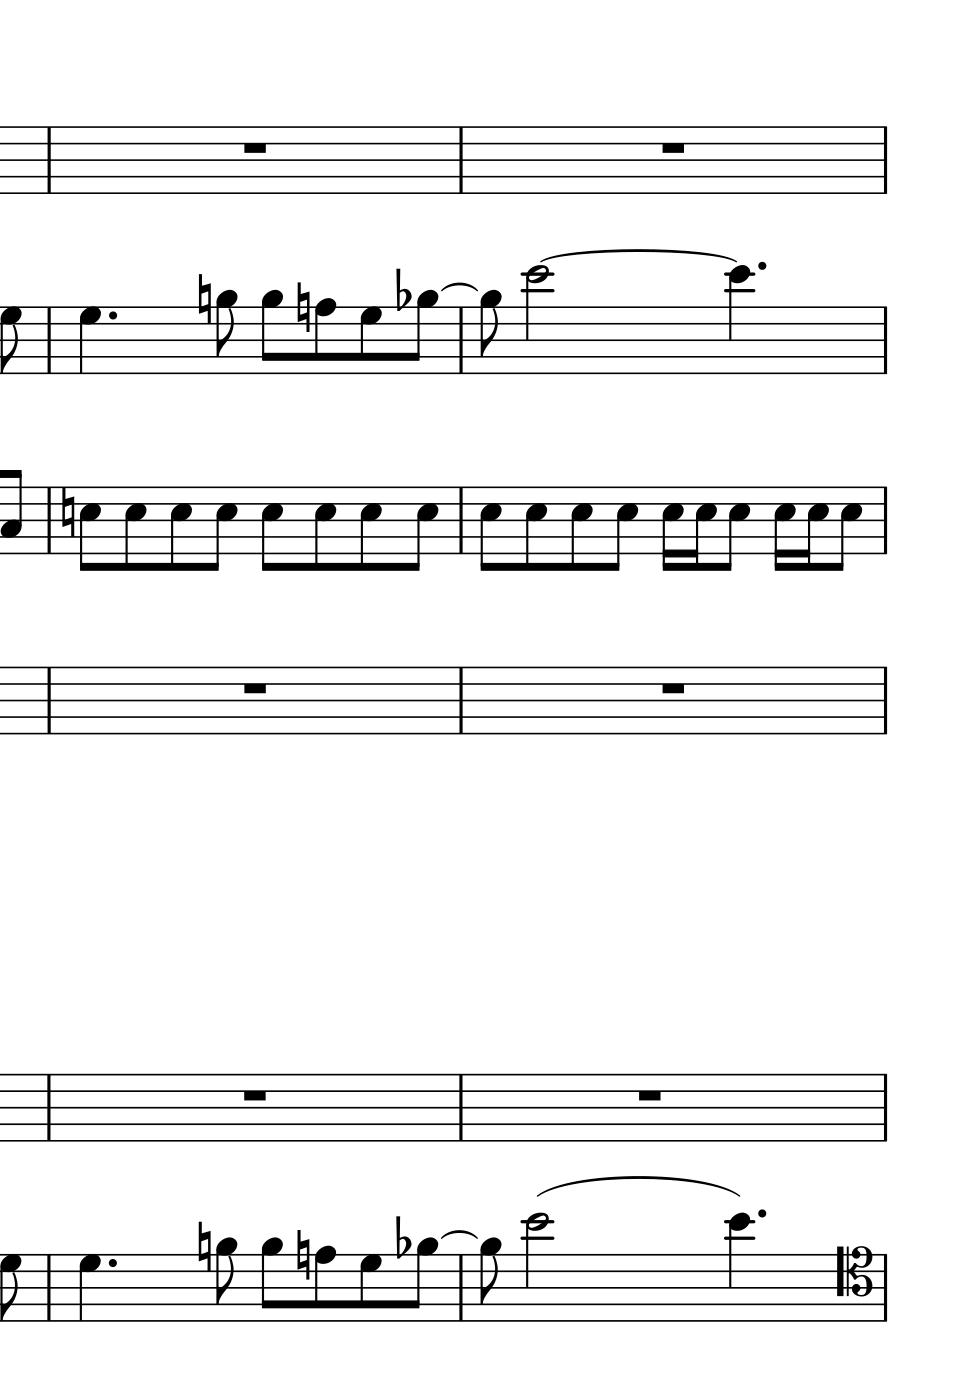16_5: (801, 484, 828, 572), (689, 485, 716, 572), (659, 484, 684, 573), (771, 485, 795, 572)
2_12: (521, 264, 552, 376), (522, 1211, 552, 1324)
4_12: (724, 263, 753, 378), (725, 1213, 753, 1324)
4_7: (77, 1252, 102, 1324), (77, 305, 102, 376)
8_3: (1, 468, 23, 557)
8_5: (407, 485, 438, 573), (608, 485, 638, 573), (208, 484, 238, 573), (835, 484, 864, 572), (722, 485, 751, 573), (122, 485, 147, 574), (312, 485, 337, 573), (523, 485, 548, 573), (357, 485, 382, 574), (168, 485, 192, 573), (259, 485, 283, 573), (568, 485, 593, 573), (77, 485, 101, 574), (478, 485, 502, 574)
8_7: (357, 1252, 382, 1322), (358, 305, 382, 375), (1, 1253, 23, 1323), (1, 304, 22, 376)
8_8: (312, 297, 336, 378), (312, 1245, 336, 1324)
8_9: (405, 1236, 439, 1324), (406, 290, 439, 378), (213, 1236, 239, 1324), (258, 1236, 283, 1324), (214, 290, 239, 378), (259, 290, 283, 378), (477, 1236, 501, 1324), (477, 290, 501, 376)
Flat: (392, 266, 410, 313), (392, 1214, 410, 1260)
Natural: (294, 1227, 311, 1281), (294, 279, 310, 333), (59, 487, 75, 541), (196, 1220, 212, 1271), (196, 271, 211, 324)
Rests1: (657, 138, 689, 158), (633, 1085, 666, 1105), (239, 678, 272, 697), (657, 678, 689, 697), (239, 1085, 270, 1104), (239, 138, 270, 156)
Single_barline: (875, 126, 894, 193), (875, 308, 894, 373), (876, 486, 894, 555), (876, 667, 894, 734), (876, 1255, 894, 1321), (876, 1073, 893, 1141), (452, 667, 469, 734), (453, 127, 469, 193), (41, 487, 56, 554), (41, 667, 56, 733), (41, 1074, 56, 1140), (41, 127, 56, 192), (41, 308, 56, 372), (453, 1075, 468, 1140), (41, 1255, 56, 1319)
Slur: (533, 1175, 746, 1196), (532, 247, 740, 263), (440, 1229, 478, 1241), (440, 282, 478, 293)
Tensor_Cclef: (834, 1244, 874, 1323)
dot: (754, 1206, 769, 1223), (755, 259, 769, 275), (106, 308, 119, 323), (106, 1256, 119, 1271)
